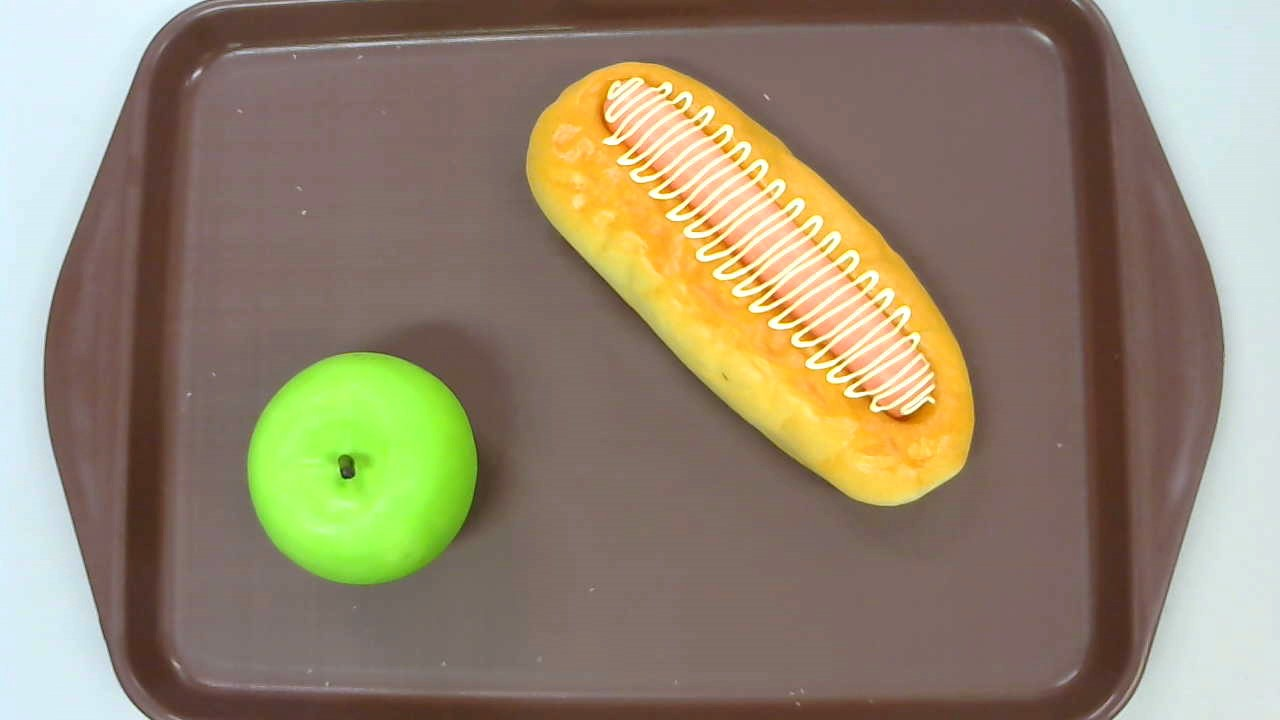green apple: (245, 350, 478, 586)
hot dog: (524, 60, 975, 508)
